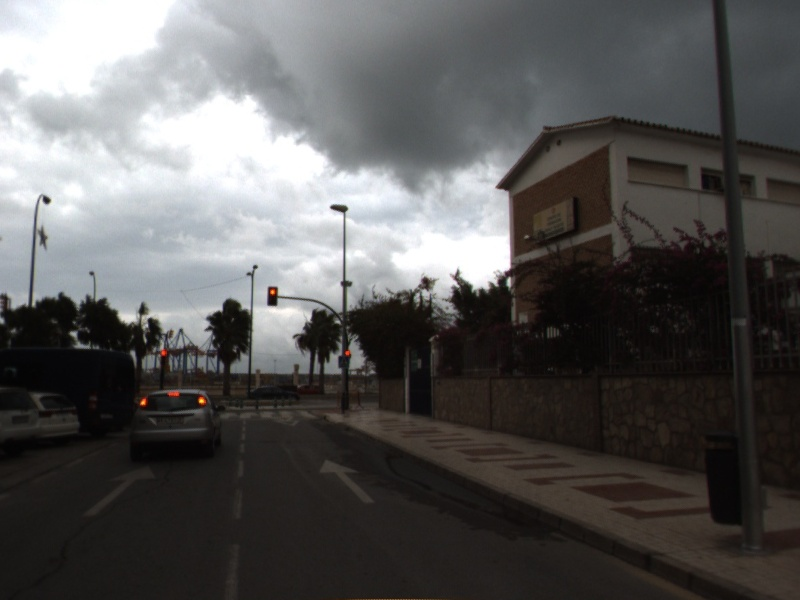STRAIGHT: (78, 462, 160, 519), (317, 457, 377, 505)
